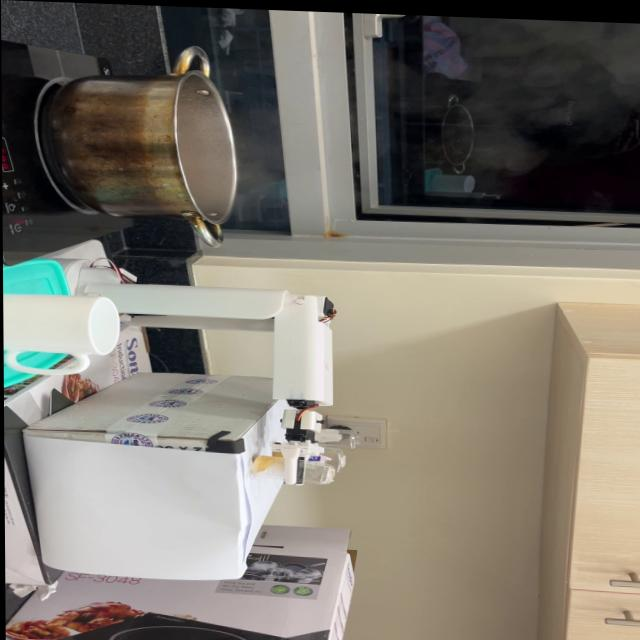cooking_pot: (41, 41, 236, 257)
garlic_powder: (250, 457, 274, 469)
